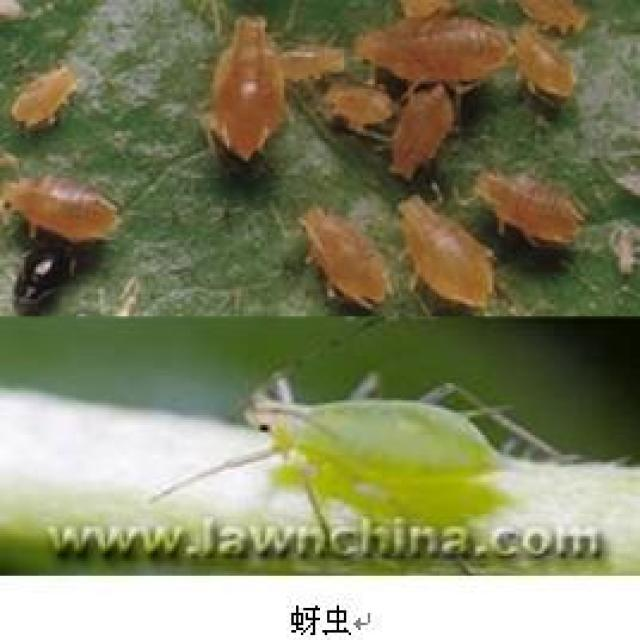Aphids: (139, 338, 585, 529), (189, 20, 303, 188), (332, 15, 532, 96), (377, 195, 500, 326), (469, 154, 583, 250), (298, 209, 393, 323), (0, 168, 123, 248), (375, 96, 452, 185), (508, 17, 588, 99), (11, 59, 84, 147), (319, 78, 390, 127), (280, 42, 338, 80)
